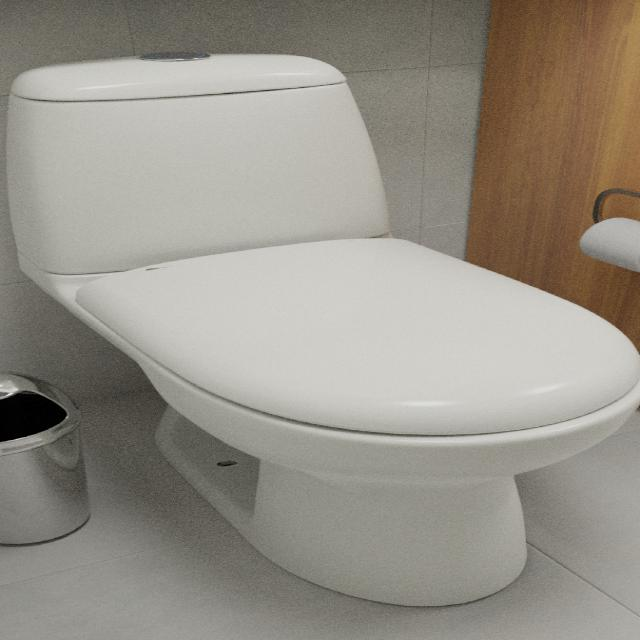toilet: (4, 51, 638, 607)
